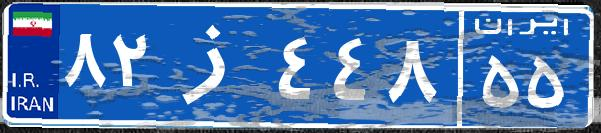2: (110, 28, 158, 105)
4: (273, 28, 330, 110), (330, 28, 385, 110)
5: (475, 38, 525, 113), (525, 38, 570, 115)
8: (385, 28, 445, 110), (57, 26, 110, 107)
ز: (158, 15, 273, 115)
